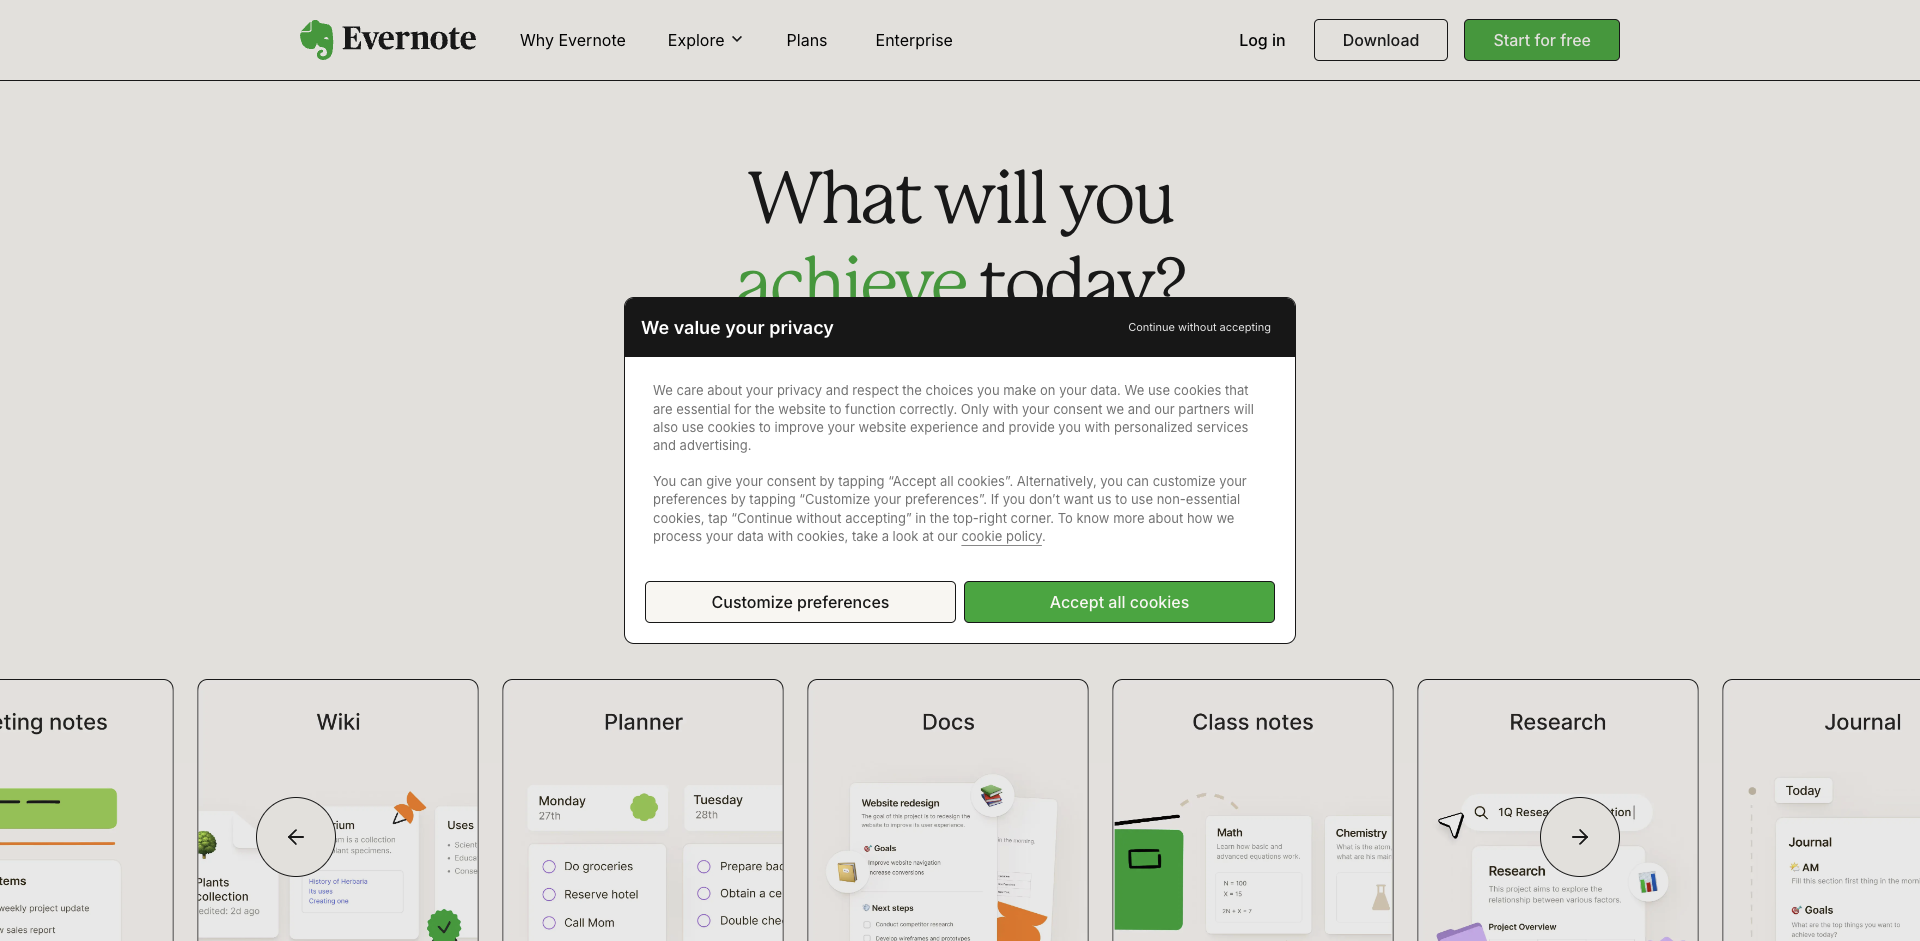button: (197, 679, 479, 941), (502, 679, 784, 941), (807, 679, 1089, 941), (1113, 679, 1393, 941), (1418, 679, 1698, 941), (1723, 679, 1920, 941), (0, 679, 174, 941), (800, 469, 1120, 538), (645, 581, 956, 622), (964, 581, 1275, 622), (1464, 20, 1620, 61), (1314, 20, 1449, 61), (1120, 314, 1280, 342), (662, 29, 751, 51)
link: (300, 21, 476, 60), (818, 572, 1102, 594), (508, 22, 638, 60), (863, 22, 965, 60), (1227, 22, 1298, 60), (775, 22, 840, 60), (961, 528, 1042, 544)
